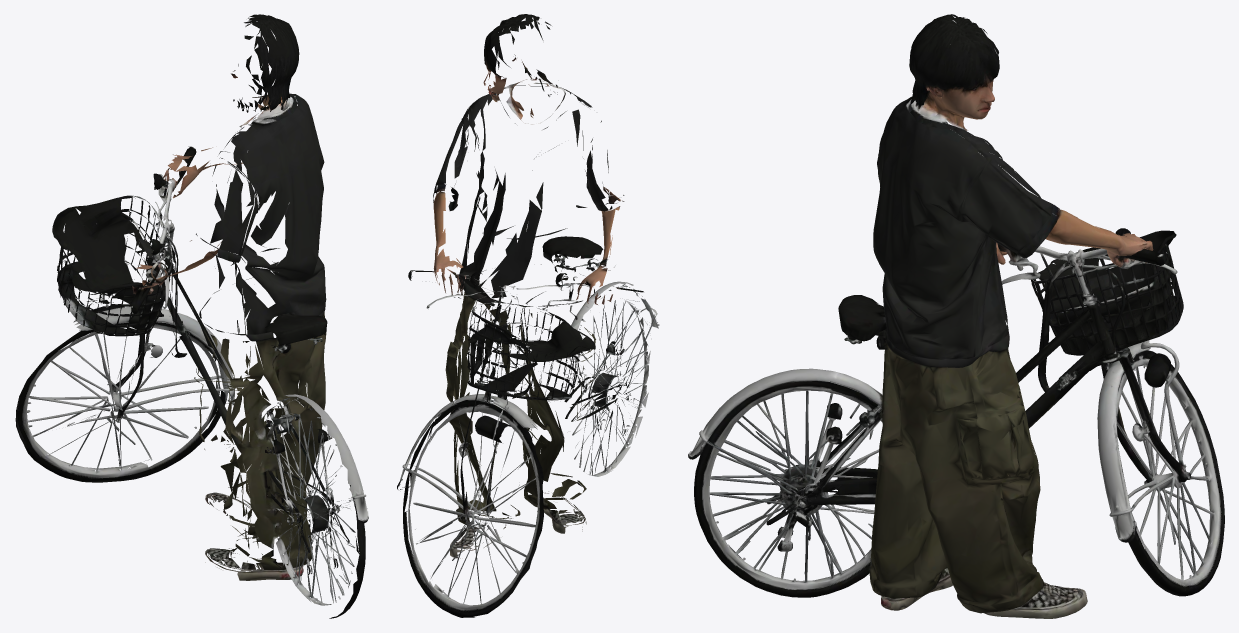
File: bicycle-rider-low.glb
3 views of the same model, side by side, from view 1: azimuth 30°, elevation 25°; view 2: azimuth 150°, elevation 25°; view 3: azimuth 270°, elevation 25° (orthographic). The views are drawn at different scales.
Visible parts, largest first — view 1: tripo_node_6c22886b-eff7-445f-9eee-04f22dd47206; view 2: tripo_node_6c22886b-eff7-445f-9eee-04f22dd47206; view 3: tripo_node_6c22886b-eff7-445f-9eee-04f22dd47206.
Boxes of the visible parts, box(x1,y1,x2,y2) form: tripo_node_6c22886b-eff7-445f-9eee-04f22dd47206: box(15, 14, 368, 618); tripo_node_6c22886b-eff7-445f-9eee-04f22dd47206: box(397, 14, 659, 617); tripo_node_6c22886b-eff7-445f-9eee-04f22dd47206: box(688, 14, 1224, 618).
Size of the model in its own units: 0.3695 by 0.9778 by 0.8093.
Materials: 1 (1 with a texture image).
